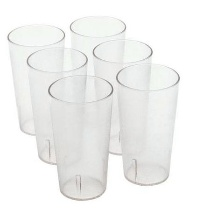glass: (42, 68, 121, 207), (23, 43, 95, 173), (87, 34, 159, 162), (113, 61, 182, 192), (66, 12, 132, 142), (6, 22, 69, 140)
